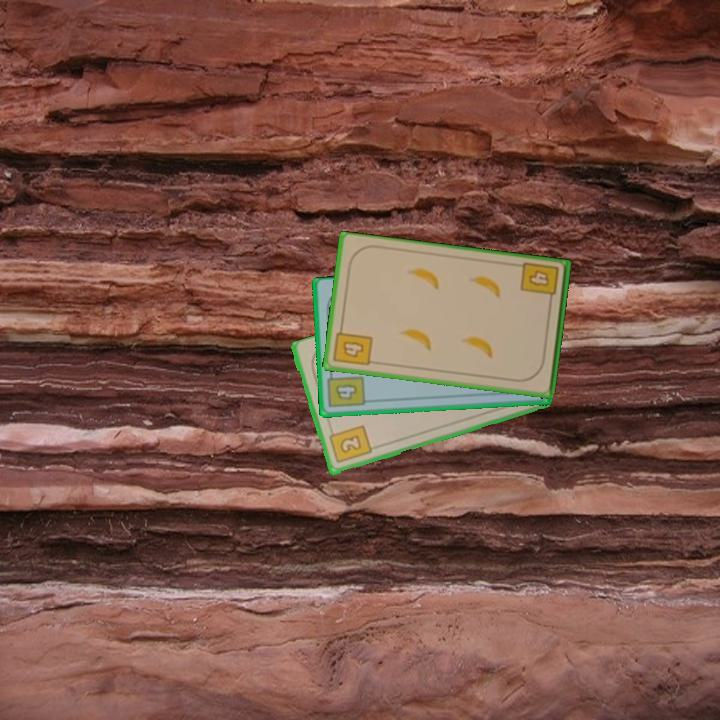2b: (325, 422, 374, 466)
4b: (517, 259, 562, 307), (330, 322, 375, 369), (324, 368, 368, 410)
